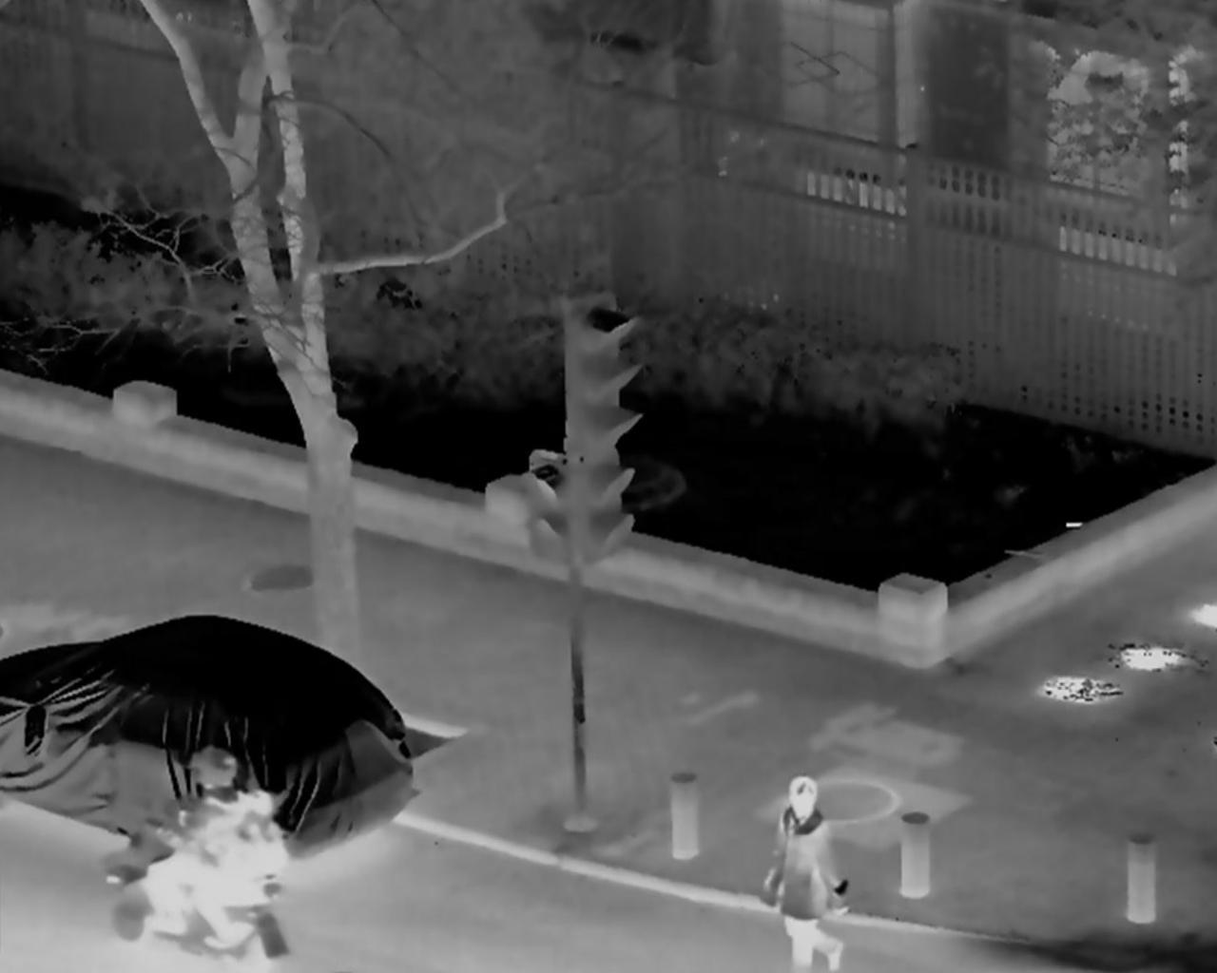person: (137, 751, 235, 935), (765, 776, 850, 973), (195, 794, 293, 953)
